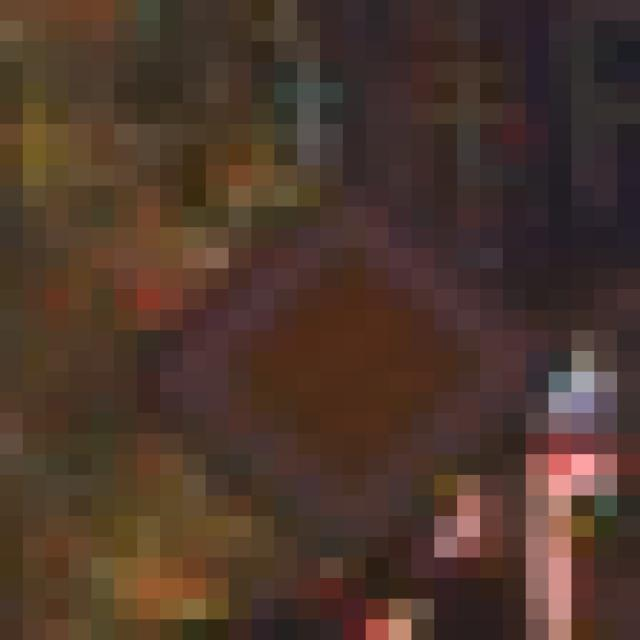Main Road: (115, 125, 527, 538)
